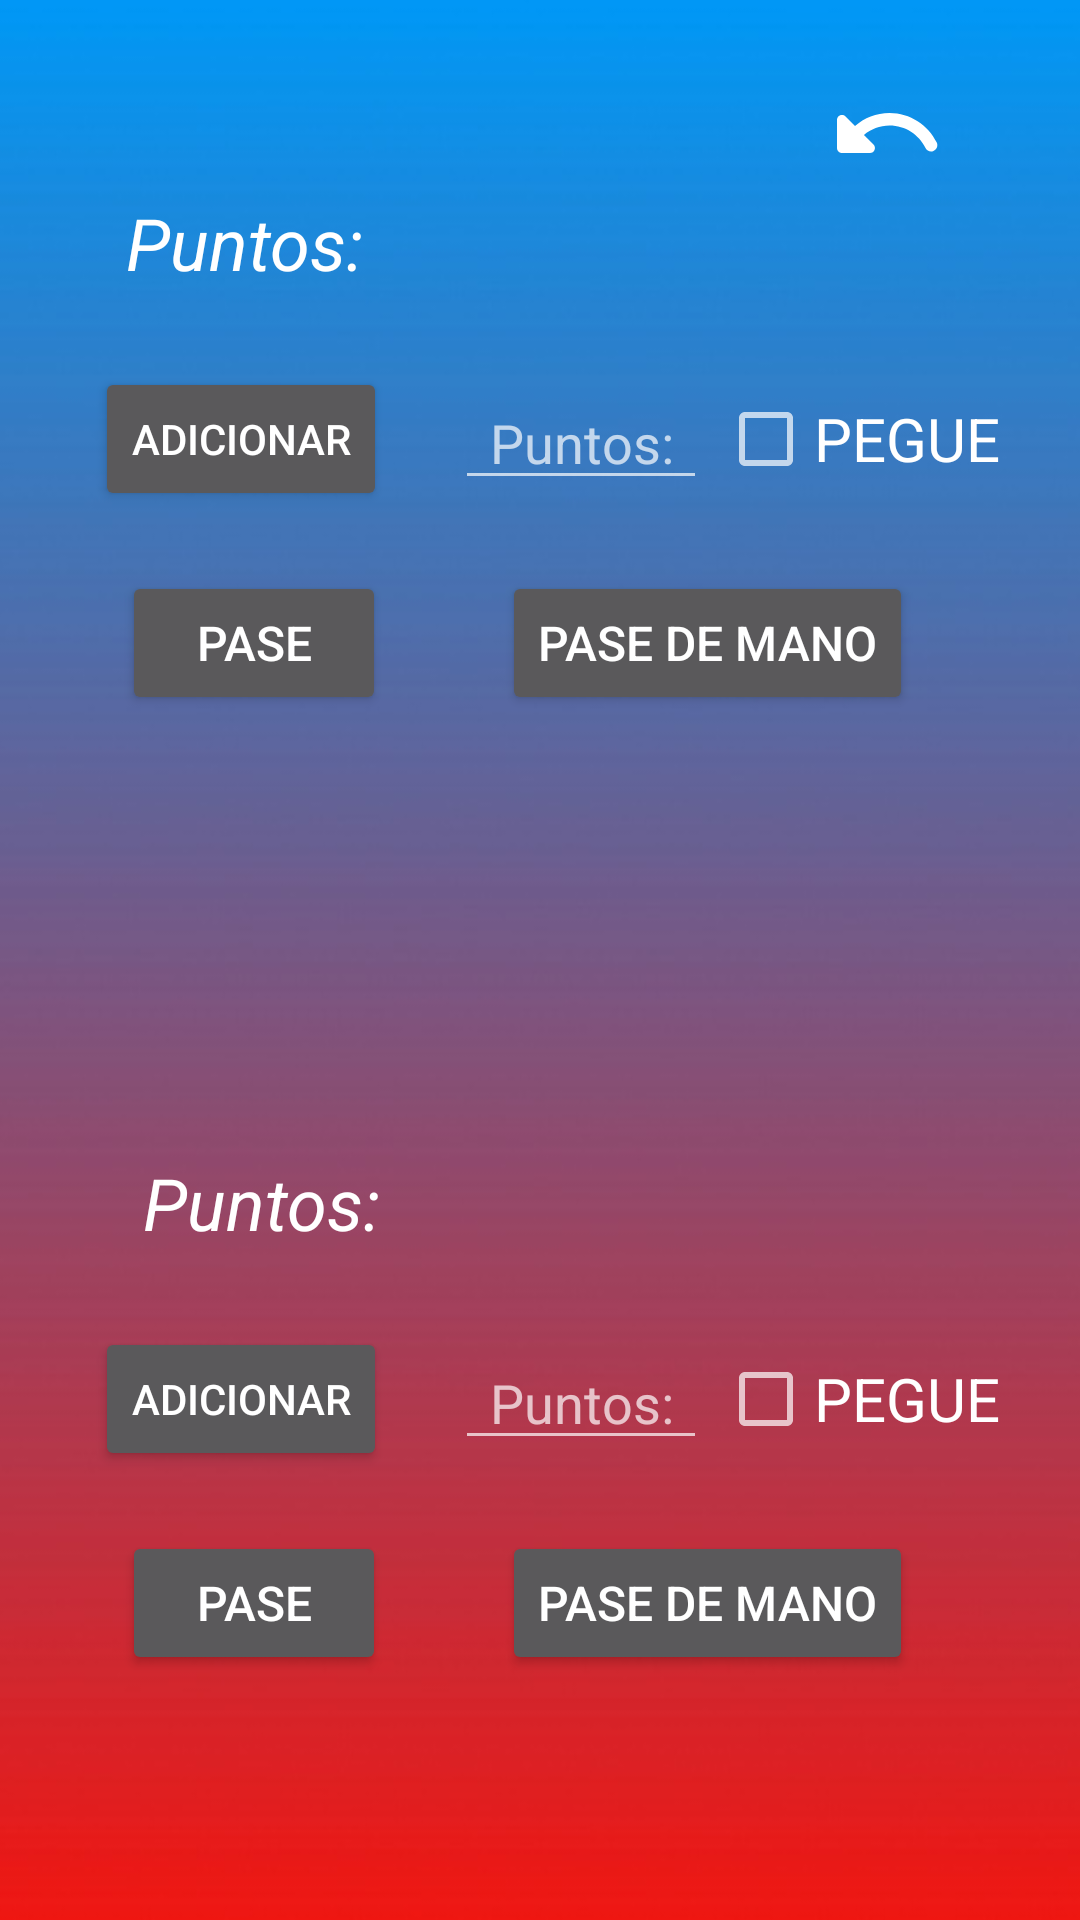

Point at icon controls on the screen. Image size 1080px×1920px, points as point (x, y).
undo: point (887, 133)
